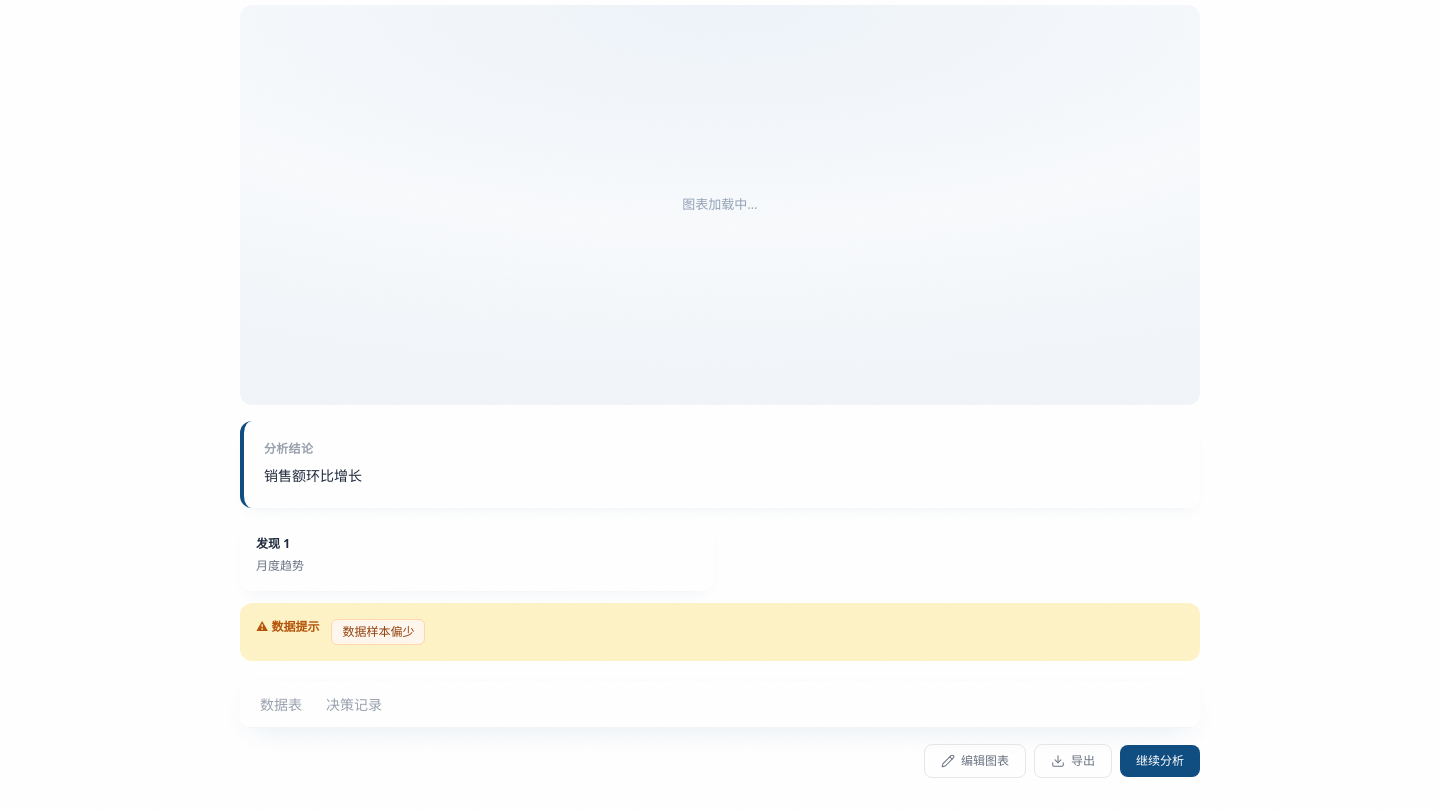
Test: Report 统一下载对话框 › 点「导出」打开对话框，展示全部可用格式
(page scrolled)
Click the button "导出" at (1073, 761), box x1=1034 y1=744 x2=1112 y2=778
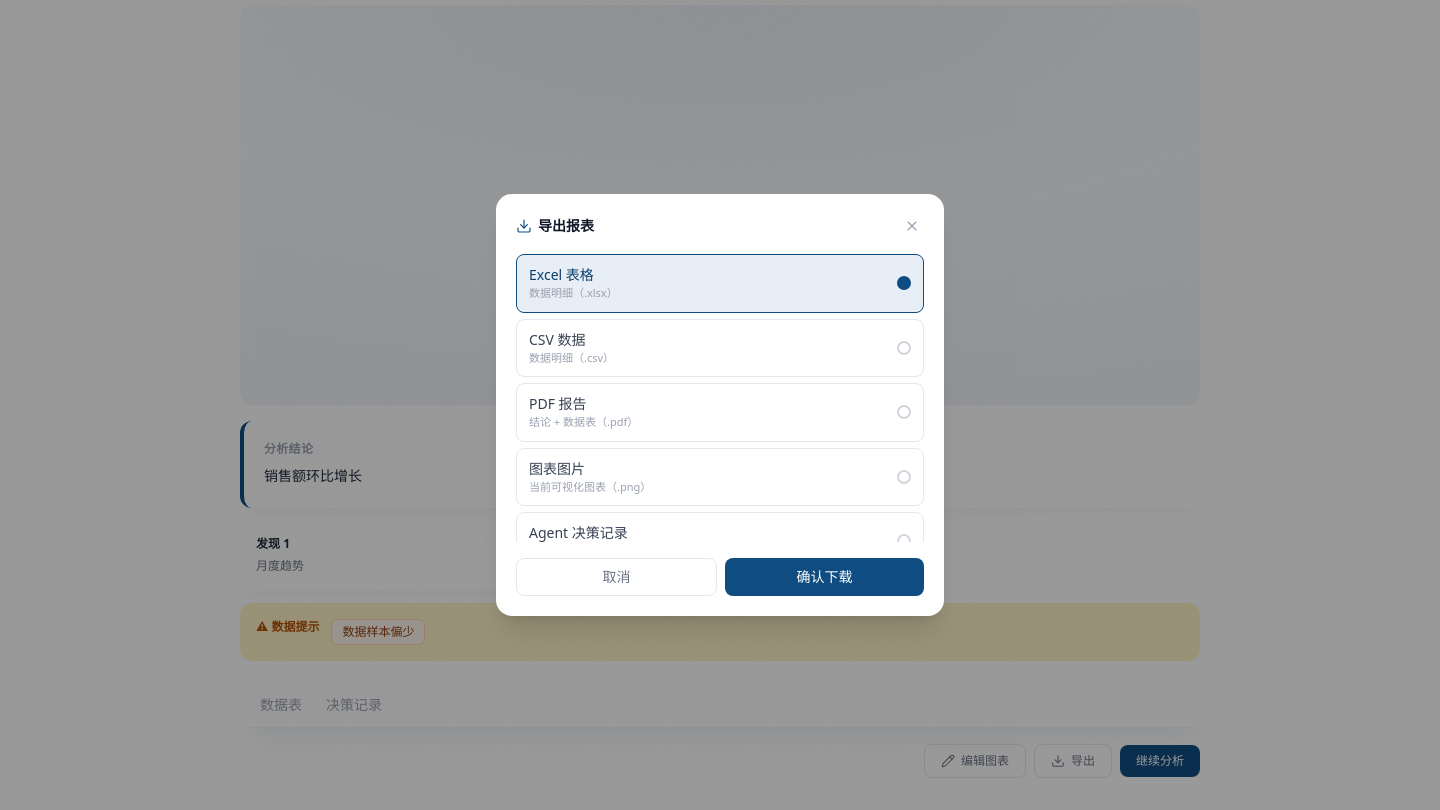
Check: the heading "导出报表" is shown, box x1=516 y1=216 x2=594 y2=236
Check: the text "Excel 表格" is shown, box x1=529 y1=265 x2=594 y2=284
Check: the text "CSV 数据" is shown, box x1=529 y1=330 x2=586 y2=348
